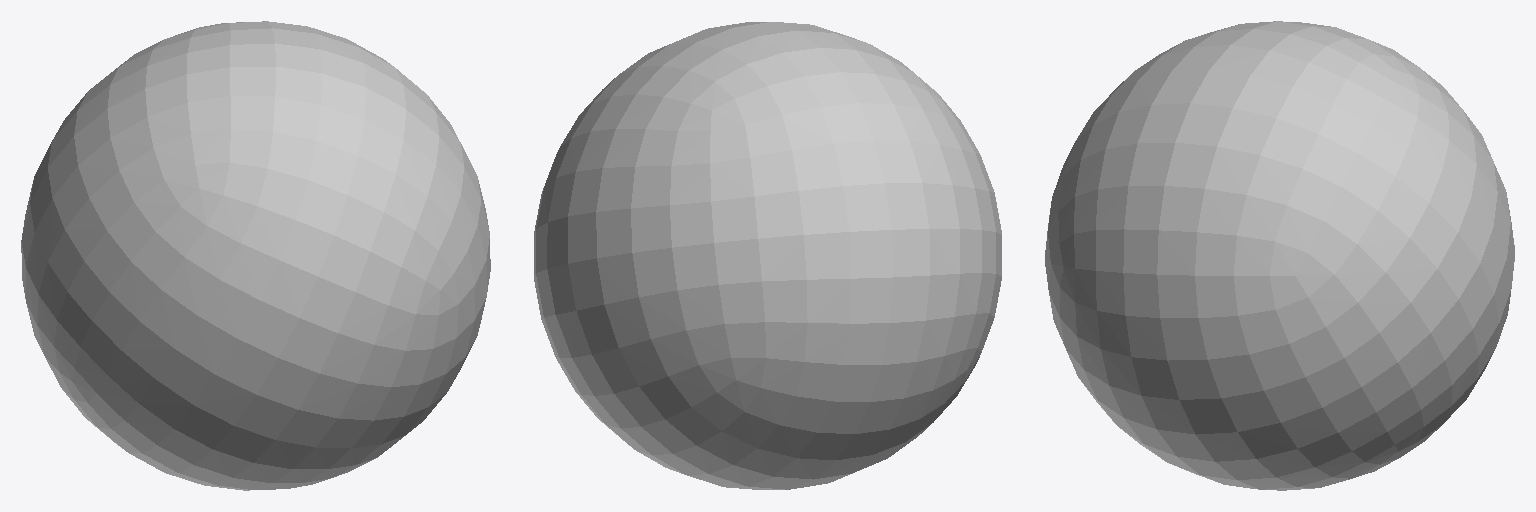
File: Moon2_2K.obj
3 views of the same model, side by side, from view 1: azimuth 30°, elevation 25°; view 2: azimuth 150°, elevation 25°; view 3: azimuth 270°, elevation 25° (orthographic).
Parts seen in each view (by area): view 1: Moon_Cube.002; view 2: Moon_Cube.002; view 3: Moon_Cube.002.
Part boxes in pixels (x1,y1,x2,y2): Moon_Cube.002: (21,21,490,490); Moon_Cube.002: (534,22,1001,489); Moon_Cube.002: (1045,21,1514,490).
Size of the model in its own units: 3.45 by 3.44 by 3.45.